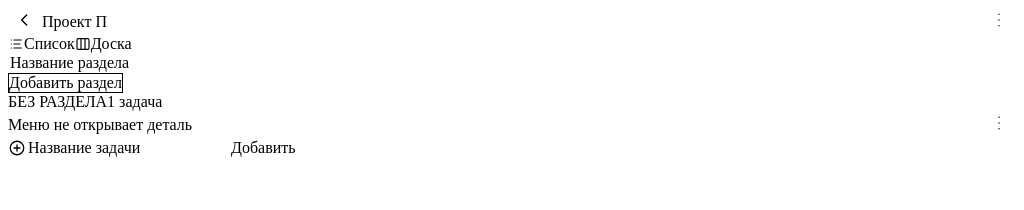
Test case: ProjectDetail — клик по строке/карточке открывает Task Detail (E10.2) › адверсариальная проверка (List): клик по кнопке меню строки открывает меню, но НЕ открывает Task Detail
The image size is (1024, 210).
Expected: the text "Меню не открывает деталь" is shown, [8,116,192,134]
Click the button named "Действия с задачей «Меню не открывает деталь»" at (999, 124), box [982,111,1016,138]
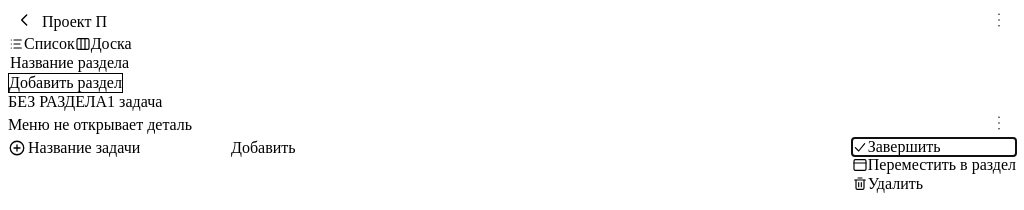
Expected: the menu item "Завершить" is shown, [852,138,1016,156]
